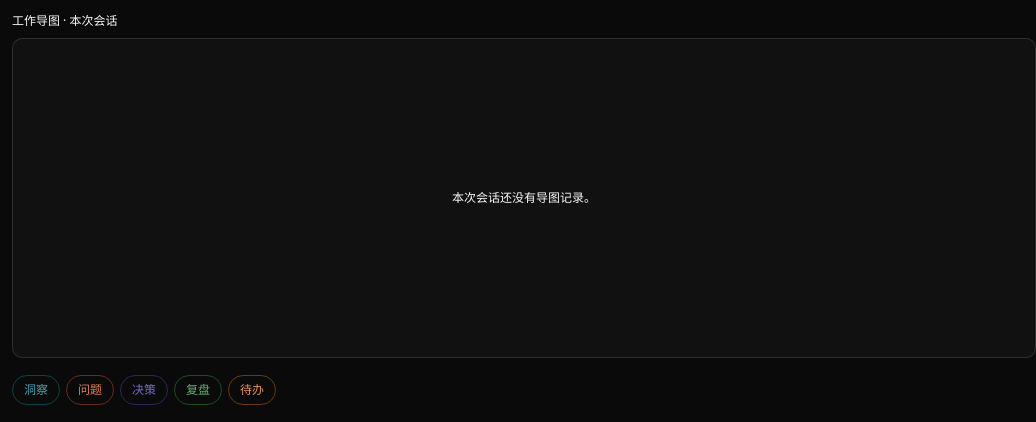
Scenario: TimerMapEditor（中央编辑区） › ★ 快速记录：类型行 5 类 → 浮层输入 → 提交回调（类型 + 文本），成功后收起
Click the button with test id "map-quick-problem".
click(90, 390)  # box [66, 375, 114, 405]
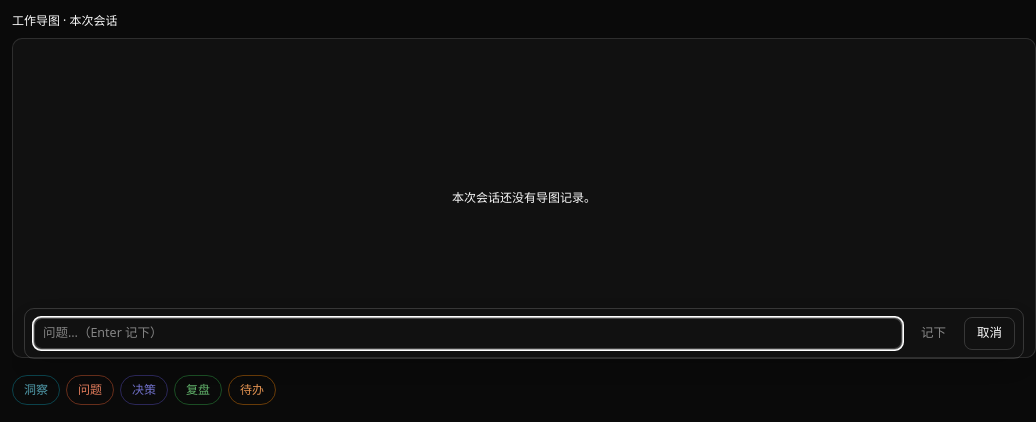
Check: the form with test id "map-quick-pop" is shown, box [24, 308, 1024, 359]
Type "token 对照" into the field with test id "map-quick-input".
click(468, 334); type("token 对照")  # box [33, 317, 903, 350]
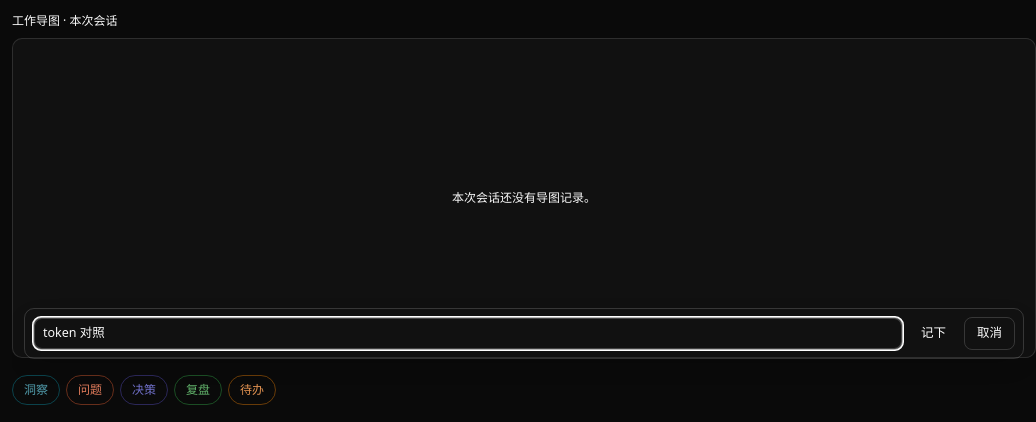
Click the button with test id "map-quick-submit".
click(934, 334)  # box [909, 317, 958, 350]
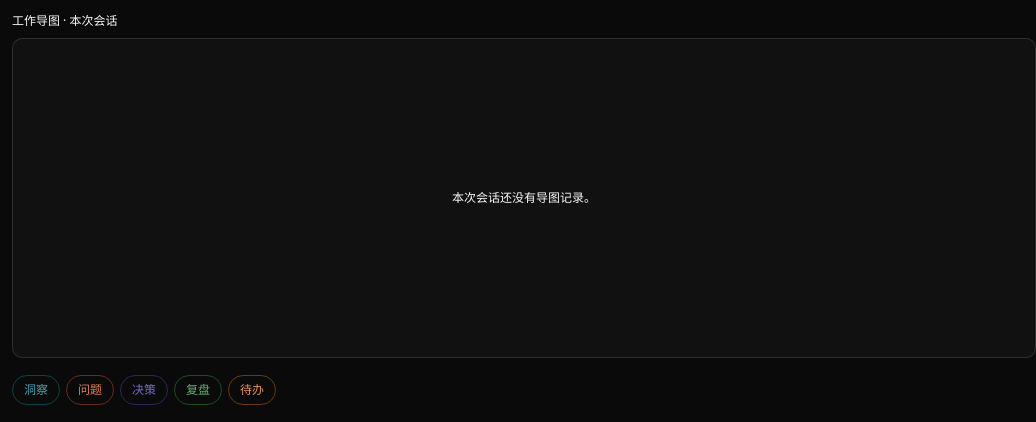
Check: the form with test id "map-quick-pop" is gone
